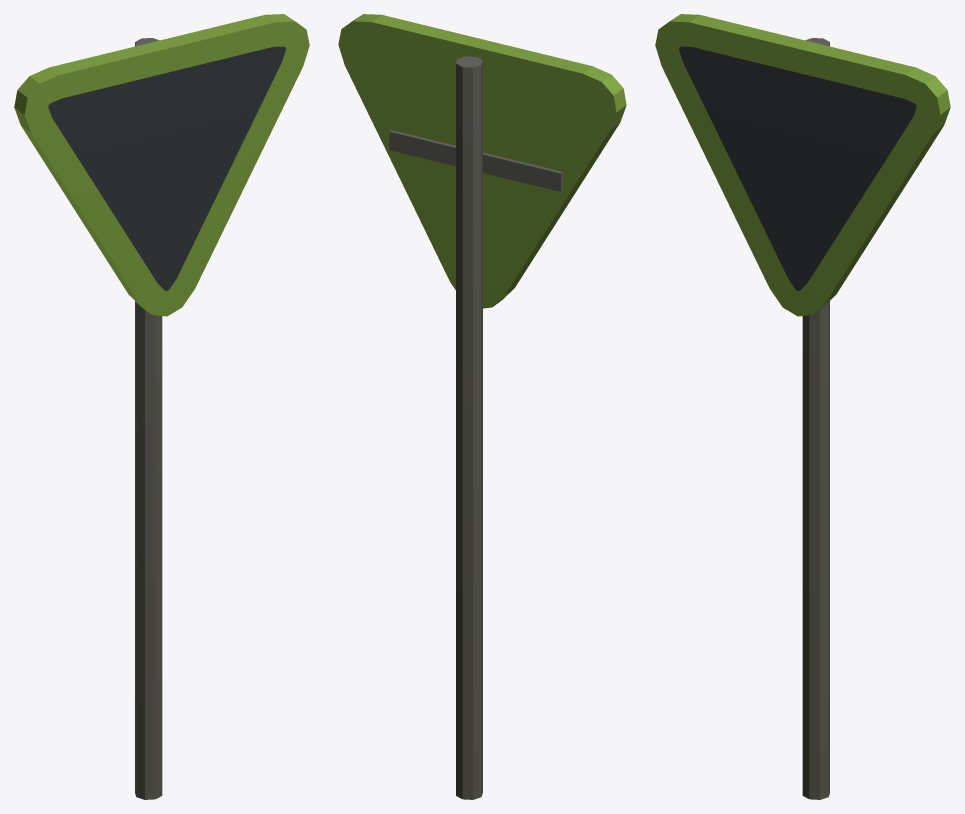
Rendered from RoadSign_03.fbx.
3 views of the same model, side by side, from view 1: azimuth 30°, elevation 25°; view 2: azimuth 150°, elevation 25°; view 3: azimuth 330°, elevation 25° (orthographic). The views are drawn at different scales.
Parts seen in each view (by area): view 1: RoadSign_03; view 2: RoadSign_03; view 3: RoadSign_03.
Boxes of the visible parts, x1=… form: RoadSign_03: x1=14, y1=14, x2=309, y2=799; RoadSign_03: x1=338, y1=14, x2=626, y2=799; RoadSign_03: x1=655, y1=14, x2=950, y2=799.
Bounding box in the file's own units: 0.7009 × 1.78 × 0.1092.
